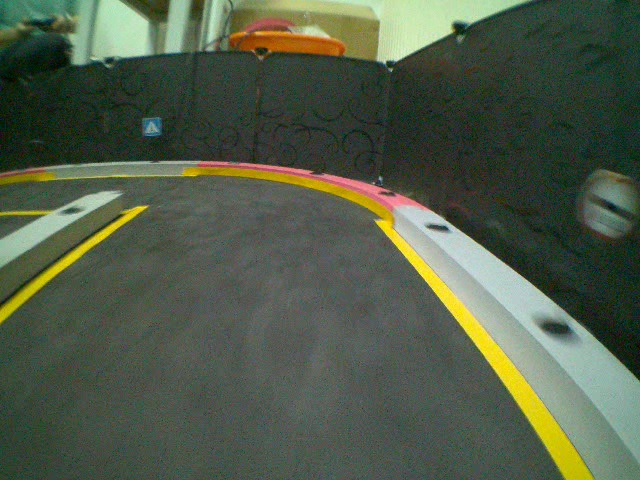crossing: (142, 117, 163, 137)
